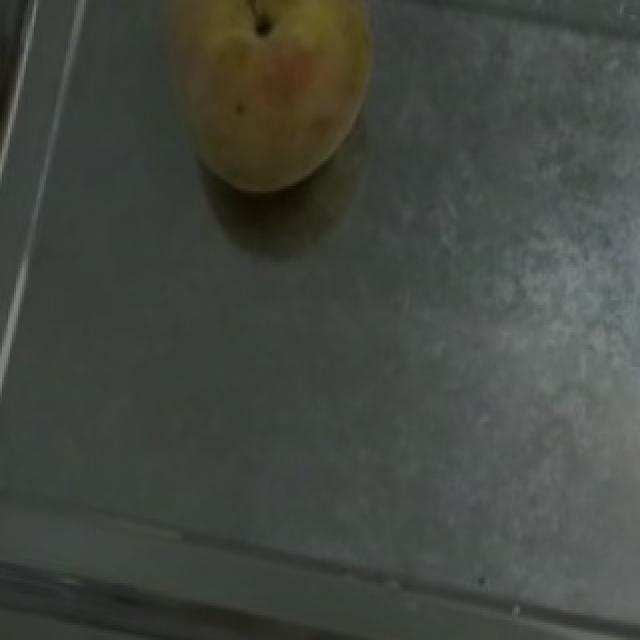Fruit: (126, 0, 400, 221)
